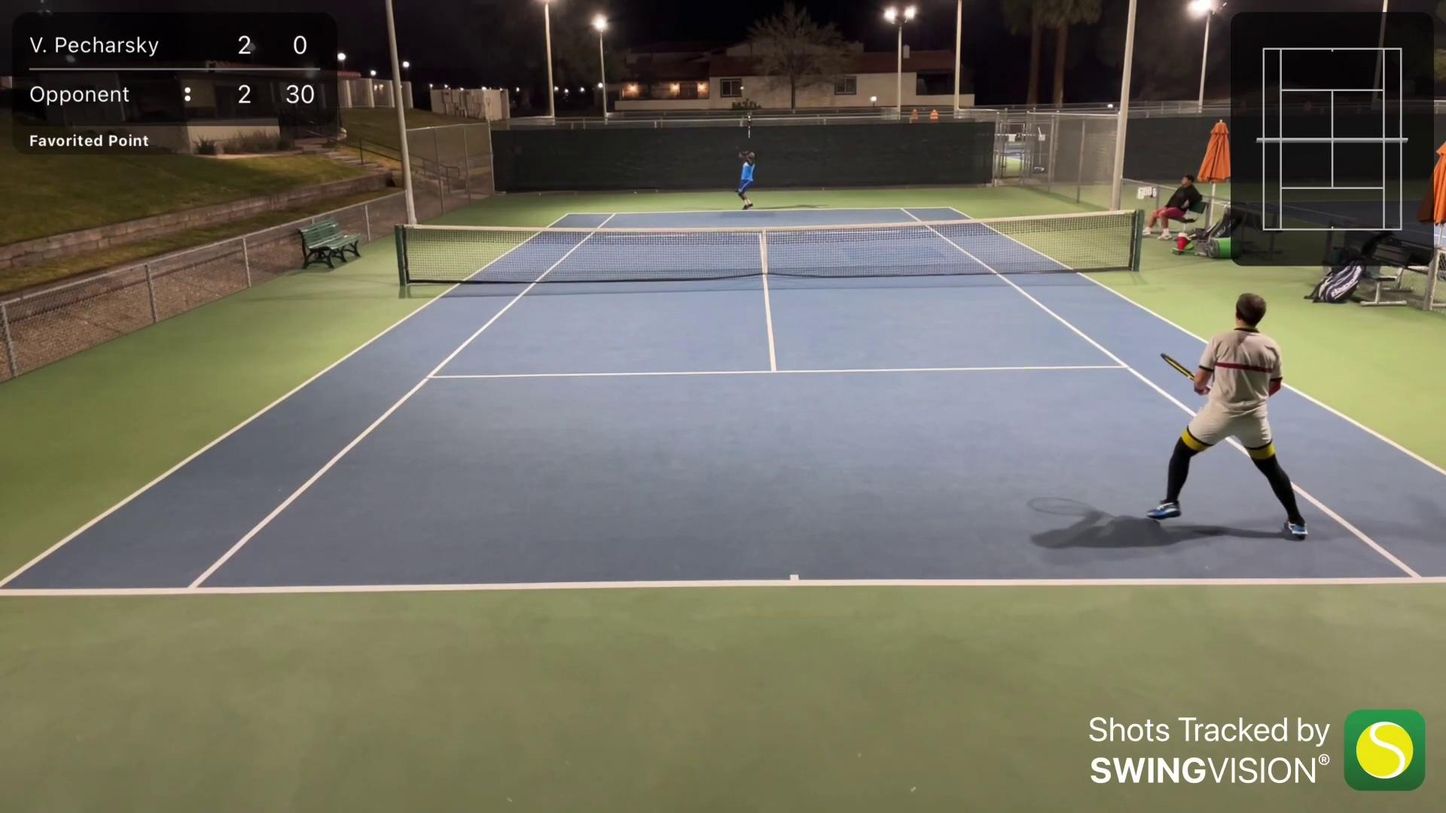ball: (633, 189, 639, 197), (737, 84, 744, 90), (535, 190, 541, 195)
